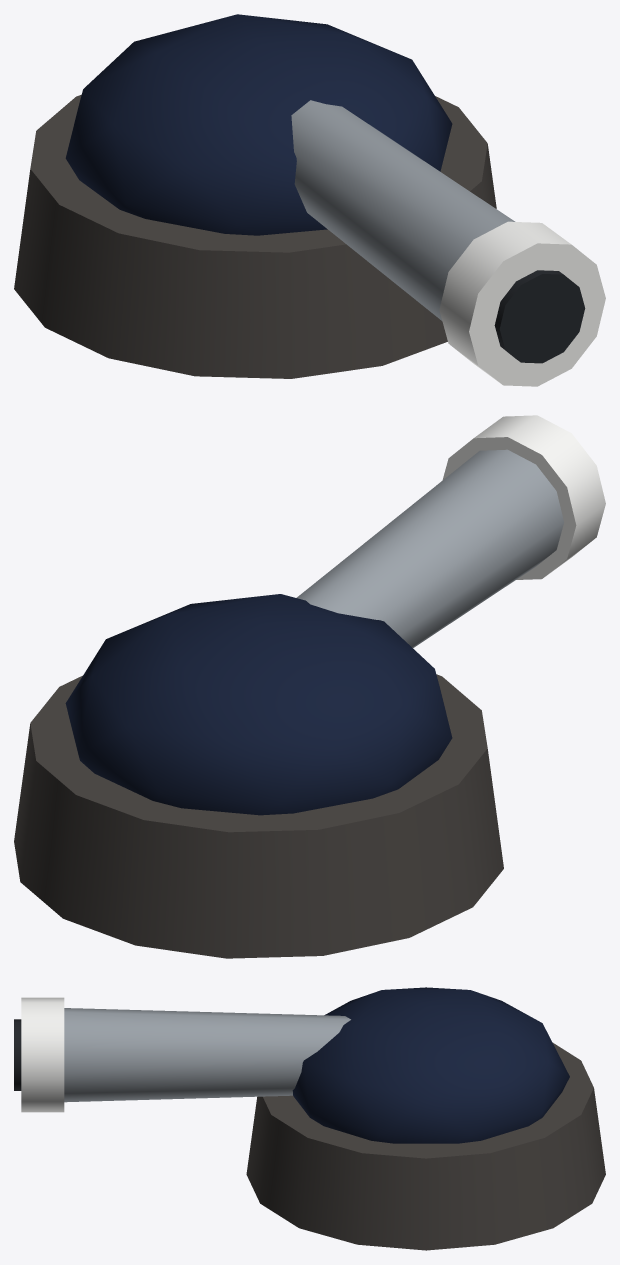
File: tanqueta_torreta.fbx
3 renders of one model, top to bottom at view 1: azimuth 30°, elevation 25°; view 2: azimuth 150°, elevation 25°; view 3: azimuth 270°, elevation 25°, orthographic. The views are drawn at different scales.
Visible parts, largest first — view 1: tanqueta_torreta; view 2: tanqueta_torreta; view 3: tanqueta_torreta.
Part boxes in pixels (x1,y1,x2,y2): tanqueta_torreta: (14,14,605,386); tanqueta_torreta: (14,415,605,958); tanqueta_torreta: (14,987,605,1250).
Bounding box in the file's own units: 1.5 × 0.79 × 2.47.
